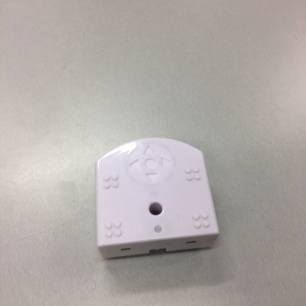thymio: (84, 132, 224, 263)
